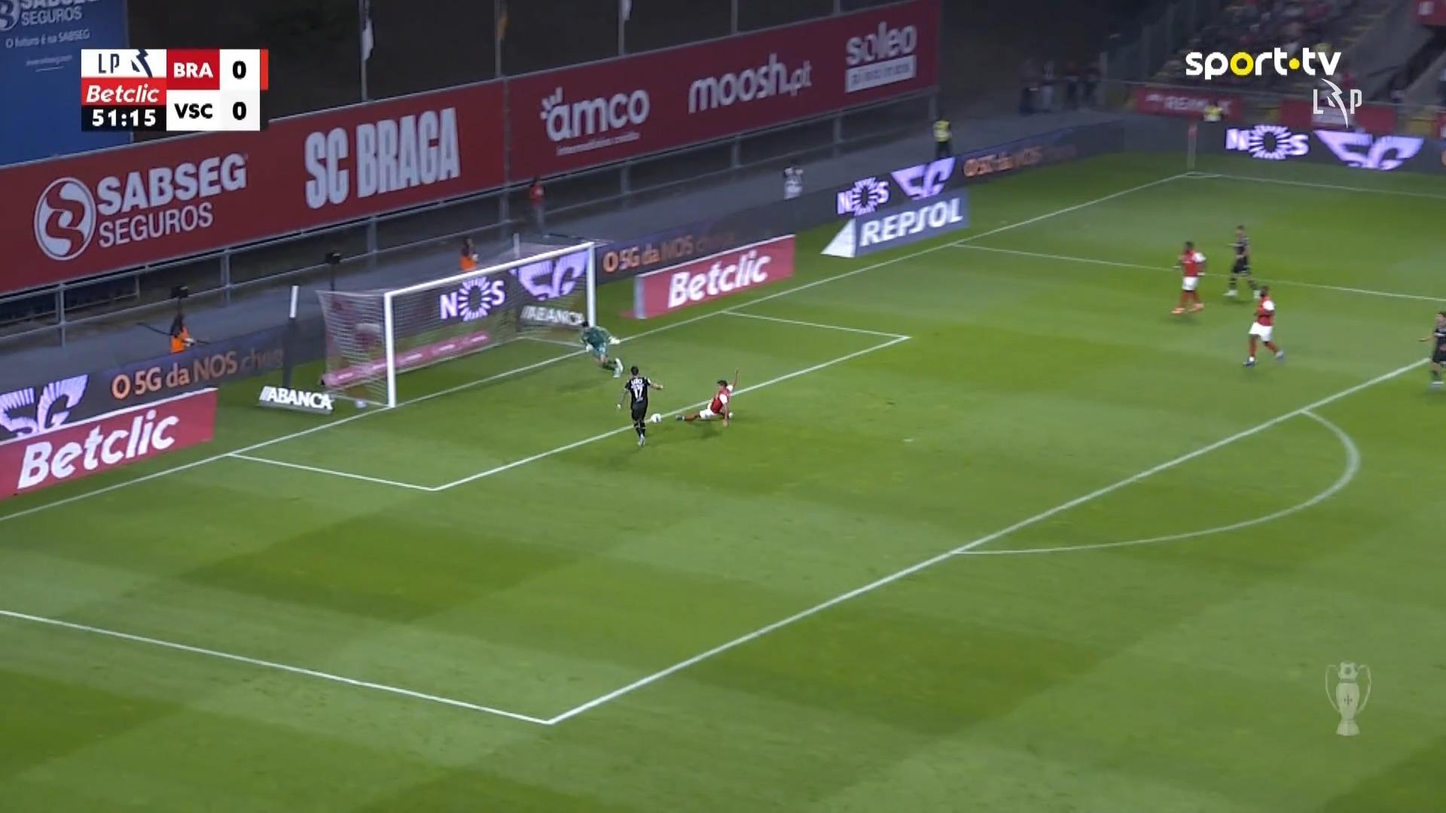ball: (650, 413, 660, 423)
goalkeeper: (578, 319, 623, 378)
player: (615, 365, 664, 447), (677, 370, 739, 428), (1242, 285, 1284, 367), (1170, 239, 1207, 314), (1222, 224, 1258, 299), (1417, 311, 1444, 386)
